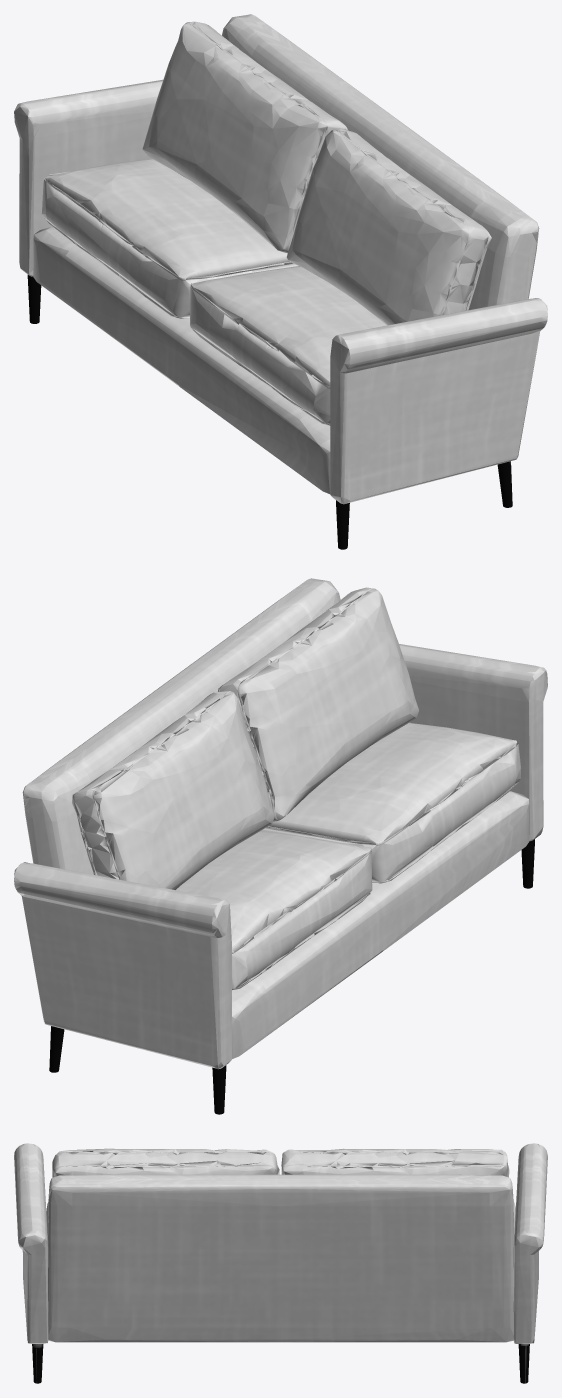
File: Couch2ndfloor2.obj
3 renders of one model, top to bottom at view 1: azimuth 30°, elevation 25°; view 2: azimuth 150°, elevation 25°; view 3: azimuth 270°, elevation 25°, orthographic. The views are drawn at different scales.
Parts seen in each view (by area): view 1: pasted__pasted__pasted__unknown_trinity pasted__pasted__group1 p; view 2: pasted__pasted__pasted__unknown_trinity pasted__pasted__group1 p; view 3: pasted__pasted__pasted__unknown_trinity pasted__pasted__group1 p.
Boxes of the visible parts, x1,y1,x2,y2 form: pasted__pasted__pasted__unknown_trinity pasted__pasted__group1 p: [14, 14, 547, 549]; pasted__pasted__pasted__unknown_trinity pasted__pasted__group1 p: [14, 578, 547, 1114]; pasted__pasted__pasted__unknown_trinity pasted__pasted__group1 p: [14, 1143, 547, 1383].
Bounding box in the file's own units: 1.01 × 1.22 × 2.67.
1 material, 1 textured.
